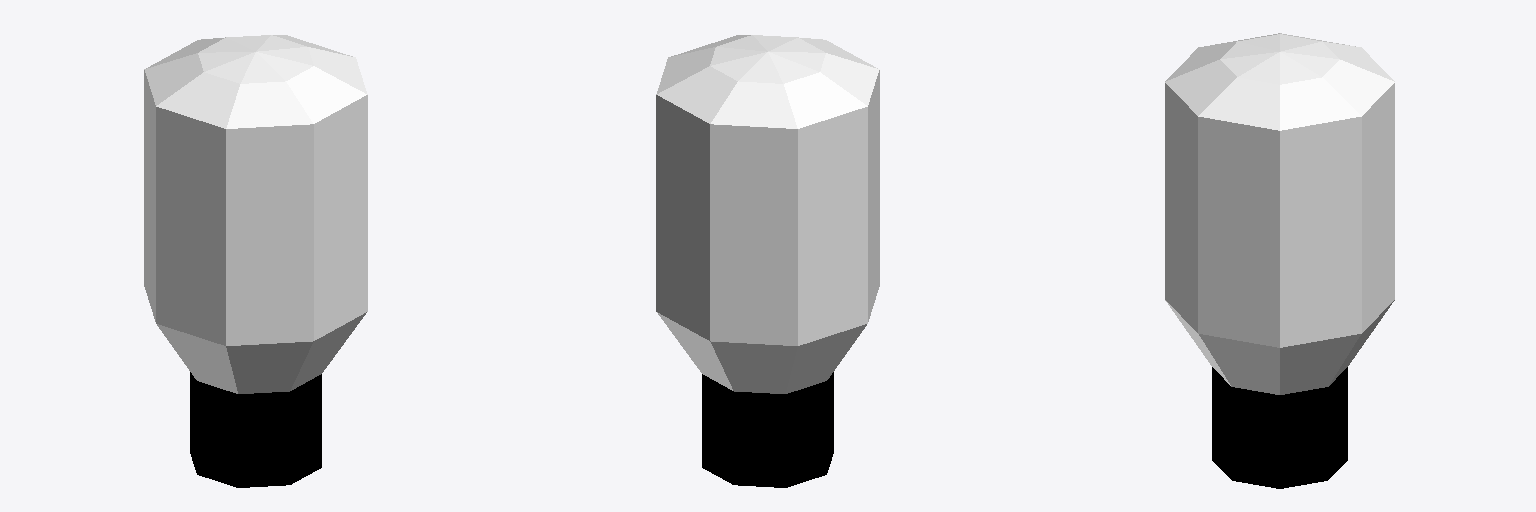
File: bulb1.obj
3 renders of one model, left to right at view 1: azimuth 30°, elevation 25°; view 2: azimuth 150°, elevation 25°; view 3: azimuth 270°, elevation 25°, orthographic.
Parts seen in each view (by area): view 1: bulb_Mesh; view 2: bulb_Mesh; view 3: bulb_Mesh.
Boxes of the visible parts, x1=… form: bulb_Mesh: x1=144, y1=35, x2=367, y2=487; bulb_Mesh: x1=656, y1=35, x2=879, y2=487; bulb_Mesh: x1=1165, y1=33, x2=1394, y2=488.
Bounding box in the file's own units: 1.19 × 2.32 × 1.19.